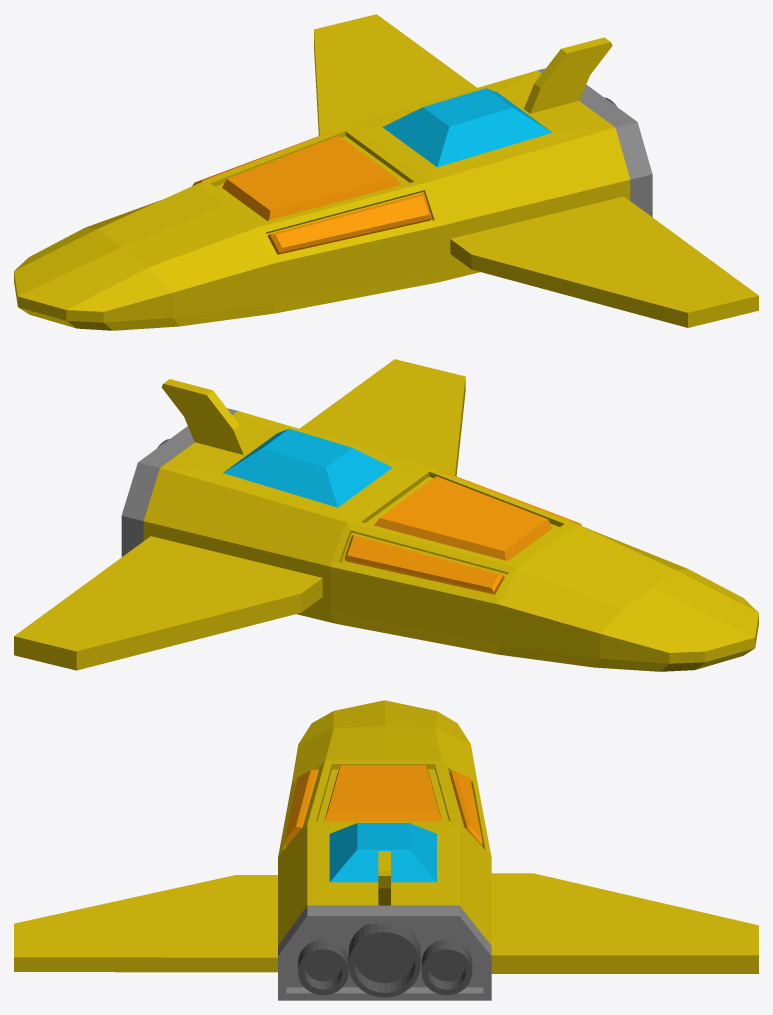
3 views of the same model, one above another, from view 1: azimuth 30°, elevation 25°; view 2: azimuth 150°, elevation 25°; view 3: azimuth 270°, elevation 25° (orthographic). The views are drawn at different scales.
Visible parts, largest first — view 1: Cube; view 2: Cube; view 3: Cube.
Boxes of the visible parts, <box> form: Cube: <box>14,14,758,330</box>; Cube: <box>14,359,758,671</box>; Cube: <box>14,700,758,1000</box>.
Size of the model in its own units: 410 by 97.94 by 458.
